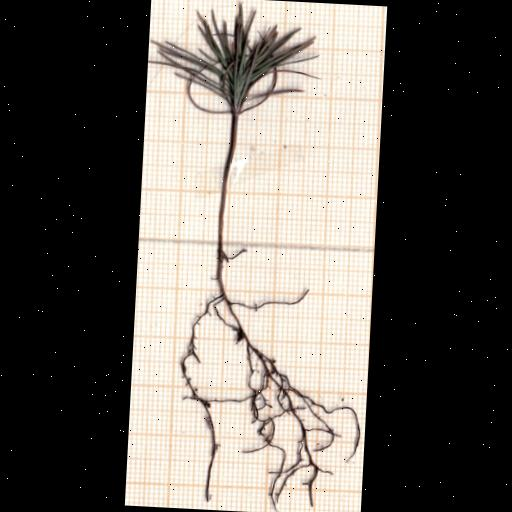flowerCedr: (148, 4, 319, 116)
rootCedr: (181, 252, 325, 508)
stemCedr: (217, 114, 238, 253)
